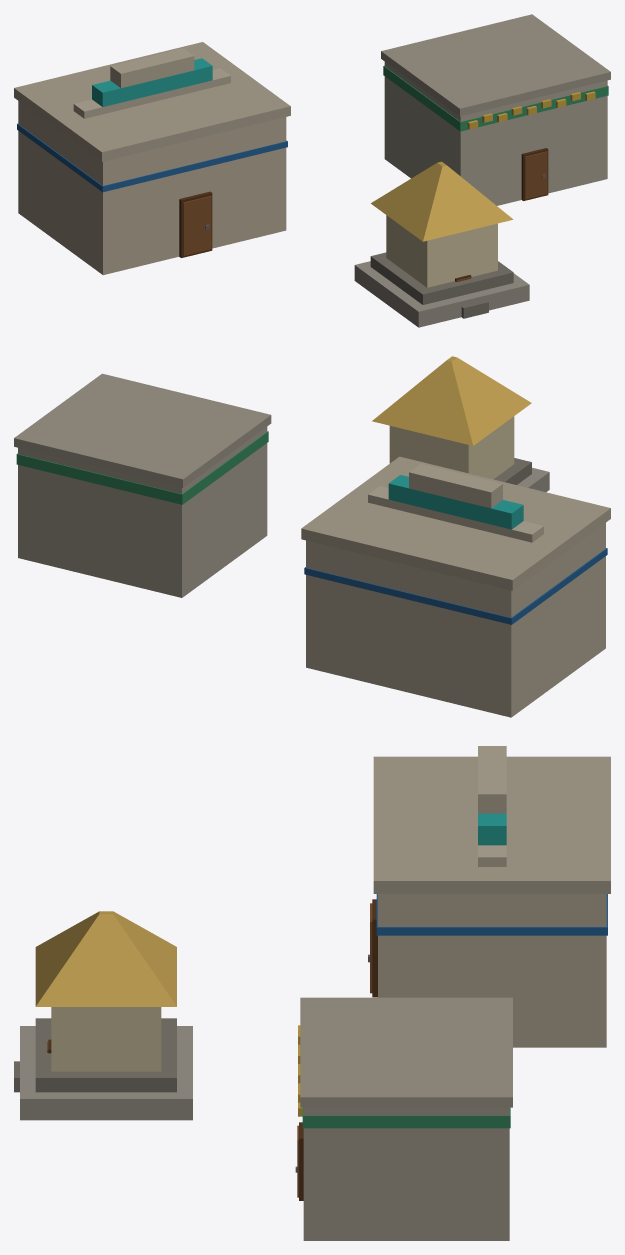
File: frog_compound.glb
3 renders of one model, top to bottom at view 1: azimuth 30°, elevation 25°; view 2: azimuth 150°, elevation 25°; view 3: azimuth 270°, elevation 25°, orthographic. The views are drawn at different scales.
Parts seen in each view (by area): view 1: frog_compound; view 2: frog_compound; view 3: frog_compound.
Part boxes in pixels (bbox=[...]): frog_compound: bbox=[14, 14, 610, 327]; frog_compound: bbox=[14, 356, 610, 717]; frog_compound: bbox=[14, 746, 610, 1240].
Size of the model in its own units: 5.25 by 1.68 by 4.18.
